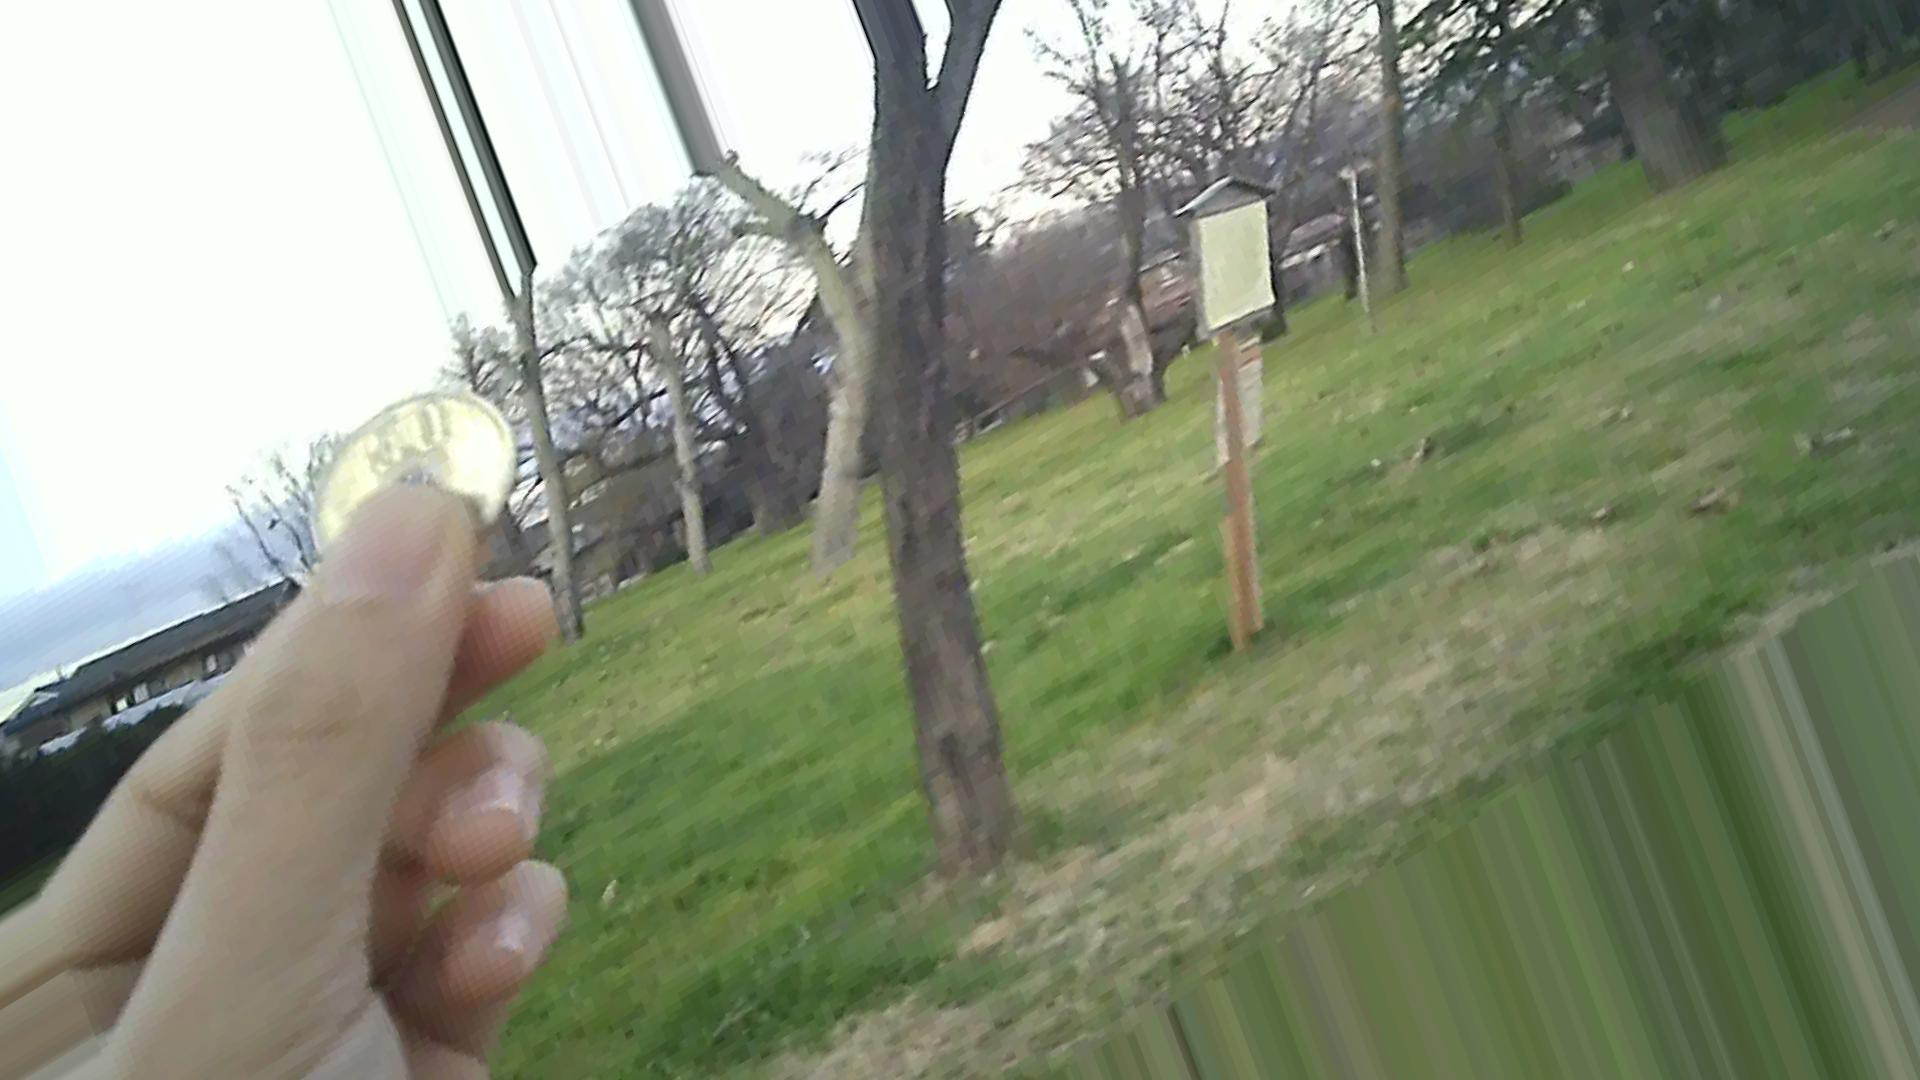50 Yen: (303, 386, 525, 588)
